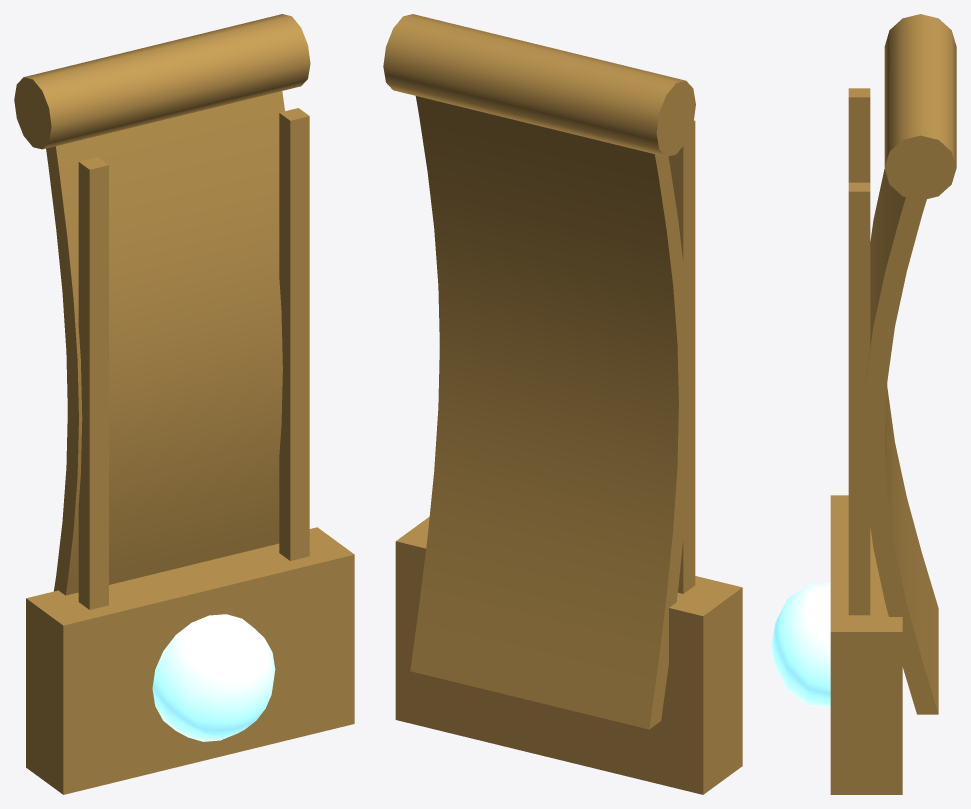
The model's file is clasp.glb.
The picture shows the model from 3 angles, left to right: view 1: azimuth 30°, elevation 25°; view 2: azimuth 150°, elevation 25°; view 3: azimuth 270°, elevation 25°; orthographic projection. The views are drawn at different scales.
Visible parts, largest first — view 1: clasp; view 2: clasp; view 3: clasp.
Part boxes in pixels (x1,y1,x2,y2): clasp: (14,14,354,794); clasp: (383,14,742,794); clasp: (771,14,956,794).
Size of the model in its own units: 0.18 by 0.4 by 0.103.
